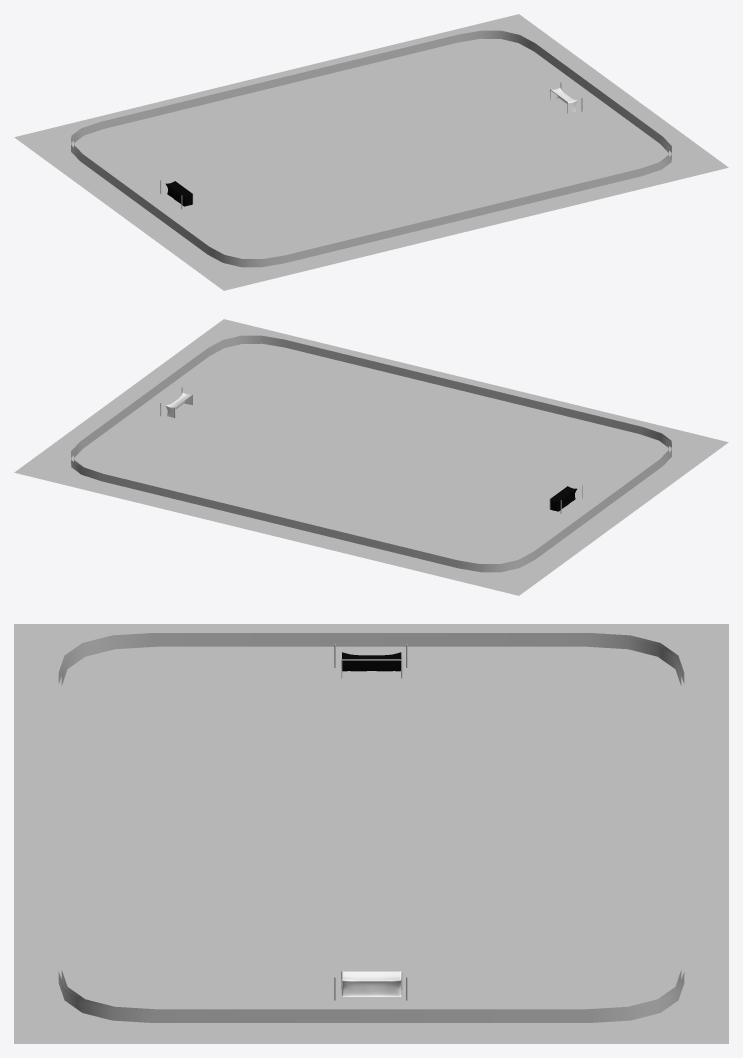
File: Model_MRFootball_Stadium.FBX
3 views of the same model, one above another, from view 1: azimuth 30°, elevation 25°; view 2: azimuth 150°, elevation 25°; view 3: azimuth 270°, elevation 25° (orthographic). The views are drawn at different scales.
Parts seen in each view (by area): view 1: Plane003, Shape003_1, Plane006; view 2: Plane003, Shape003_1, Plane006; view 3: Plane003, Shape003_1, Plane006, exported, exported_1.
Boxes of the visible parts, bbox=[...] form: Plane003: bbox=[74, 39, 669, 258]; Shape003_1: bbox=[14, 14, 728, 290]; Plane006: bbox=[71, 30, 671, 267]; Plane003: bbox=[74, 343, 669, 563]; Shape003_1: bbox=[14, 319, 728, 595]; Plane006: bbox=[71, 335, 671, 572]; Plane003: bbox=[60, 646, 680, 1009]; Shape003_1: bbox=[14, 624, 728, 1043]; Plane006: bbox=[58, 633, 684, 1022]; exported: bbox=[341, 971, 401, 996]; exported_1: bbox=[342, 652, 401, 671].
Bounding box in the file's own units: 117 × 3.07 × 84.4.
